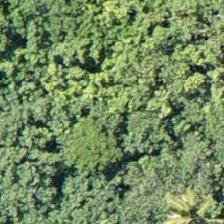coconut_tree: (146, 176, 223, 223)
